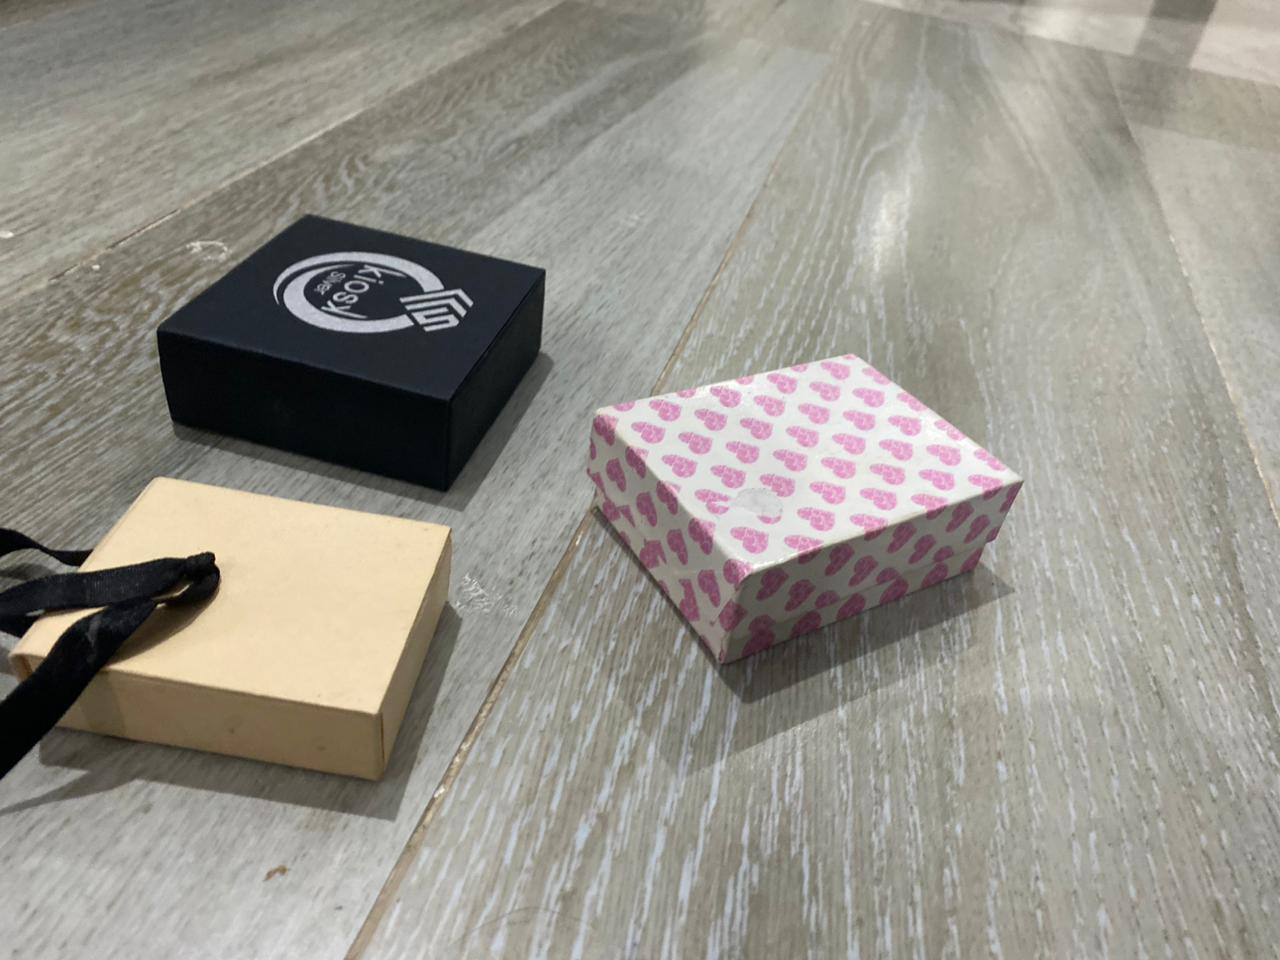Pink Box: (582, 351, 1027, 673)
Red Box: (151, 208, 548, 495)
Yellow Box: (10, 475, 457, 792)
